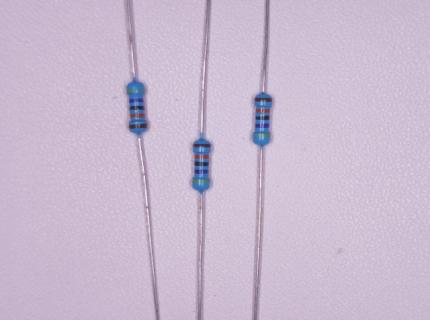Black band: (195, 161, 209, 166), (130, 106, 144, 110), (255, 116, 269, 120)
Brown band: (129, 124, 147, 129), (193, 144, 210, 148), (255, 98, 272, 102)
Orange band: (130, 113, 144, 118), (195, 155, 209, 159), (256, 109, 269, 113)
Violet band: (128, 98, 144, 103), (194, 169, 209, 174), (255, 123, 269, 128)
Yellow band: (127, 88, 144, 94), (253, 133, 270, 138), (192, 179, 210, 182)
